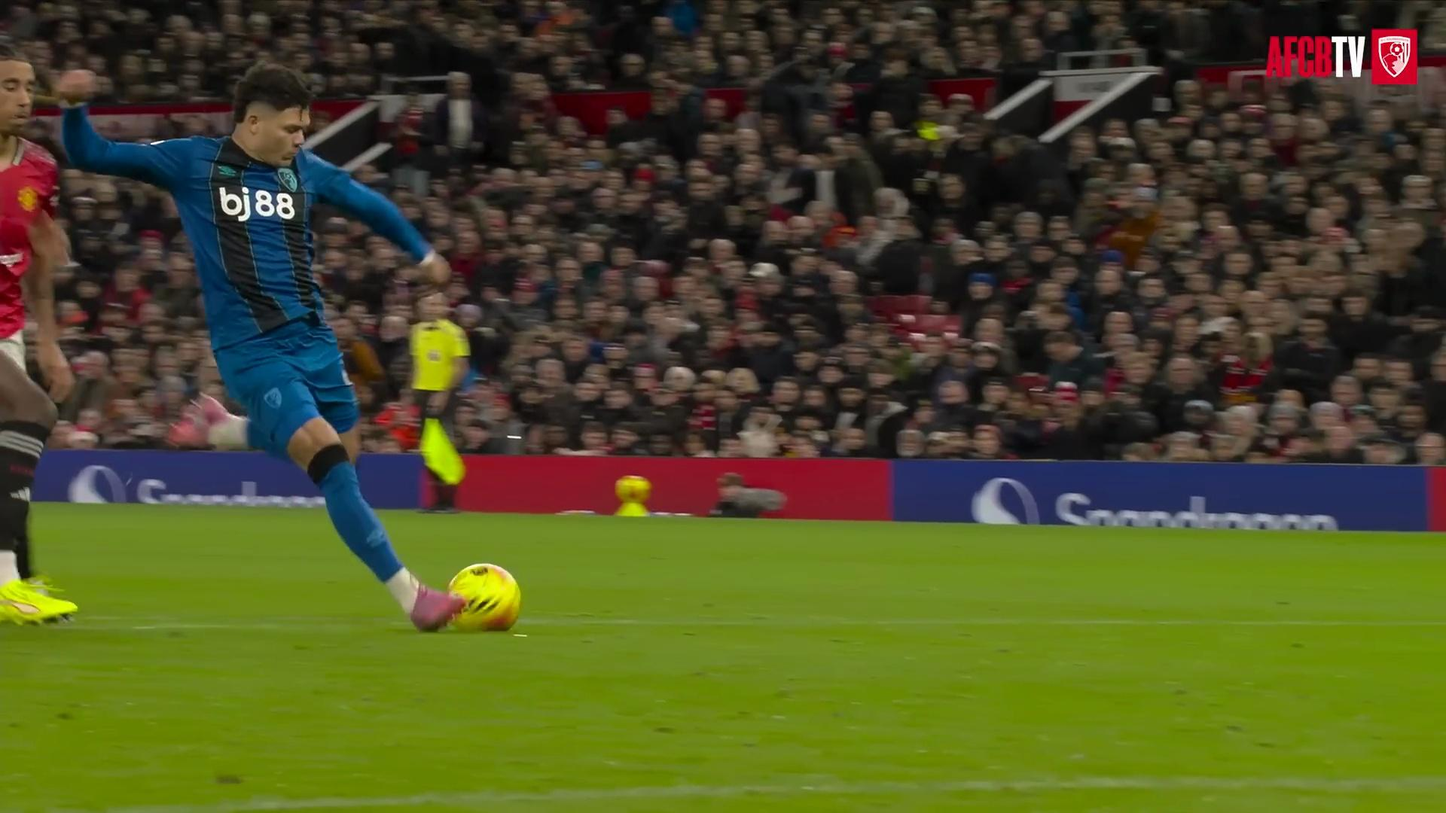football: (449, 564, 520, 631), (615, 475, 651, 503)
player: (56, 63, 462, 629), (0, 41, 76, 623)
referee: (410, 293, 468, 441)
